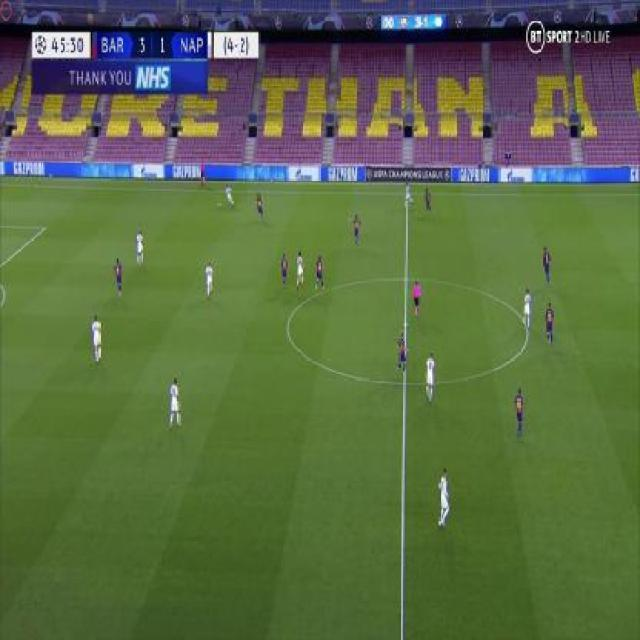ball: (217, 199, 222, 207)
player: (436, 465, 452, 530), (511, 386, 527, 439), (168, 375, 182, 431), (394, 330, 410, 379), (423, 348, 437, 402), (90, 311, 103, 362), (544, 299, 557, 347), (112, 256, 125, 299), (203, 258, 216, 300), (541, 244, 554, 286), (313, 253, 326, 293), (349, 212, 363, 248), (522, 286, 533, 331), (295, 249, 306, 291), (411, 277, 422, 317), (134, 228, 145, 267), (279, 251, 290, 290), (423, 185, 434, 214), (255, 191, 266, 220), (403, 179, 414, 207), (224, 182, 235, 208), (199, 159, 207, 190)
